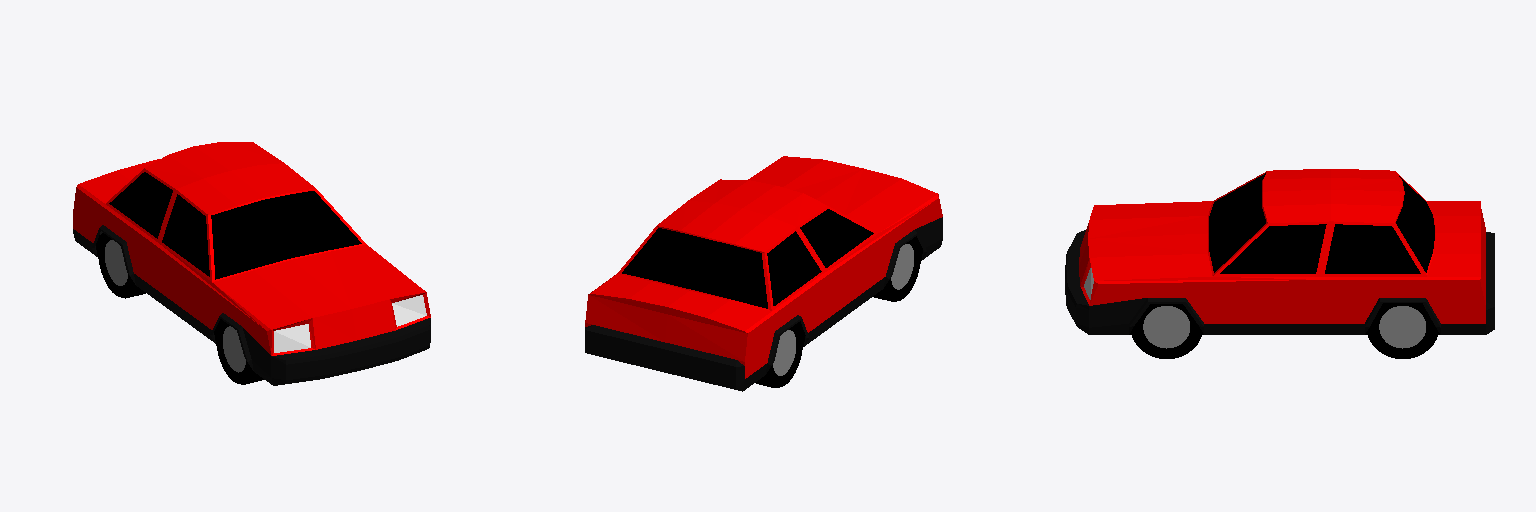
File: Car.obj
The picture shows the model from 3 angles: view 1: azimuth 30°, elevation 25°; view 2: azimuth 150°, elevation 25°; view 3: azimuth 270°, elevation 25°; orthographic projection.
Visible parts, largest first — view 1: Car_Cube; view 2: Car_Cube; view 3: Car_Cube.
Part boxes in pixels (x1,y1,x2,y2): Car_Cube: (73,142,430,385); Car_Cube: (585,156,942,391); Car_Cube: (1065,169,1494,358).
Size of the model in its own units: 2.1 by 1.59 by 4.67.